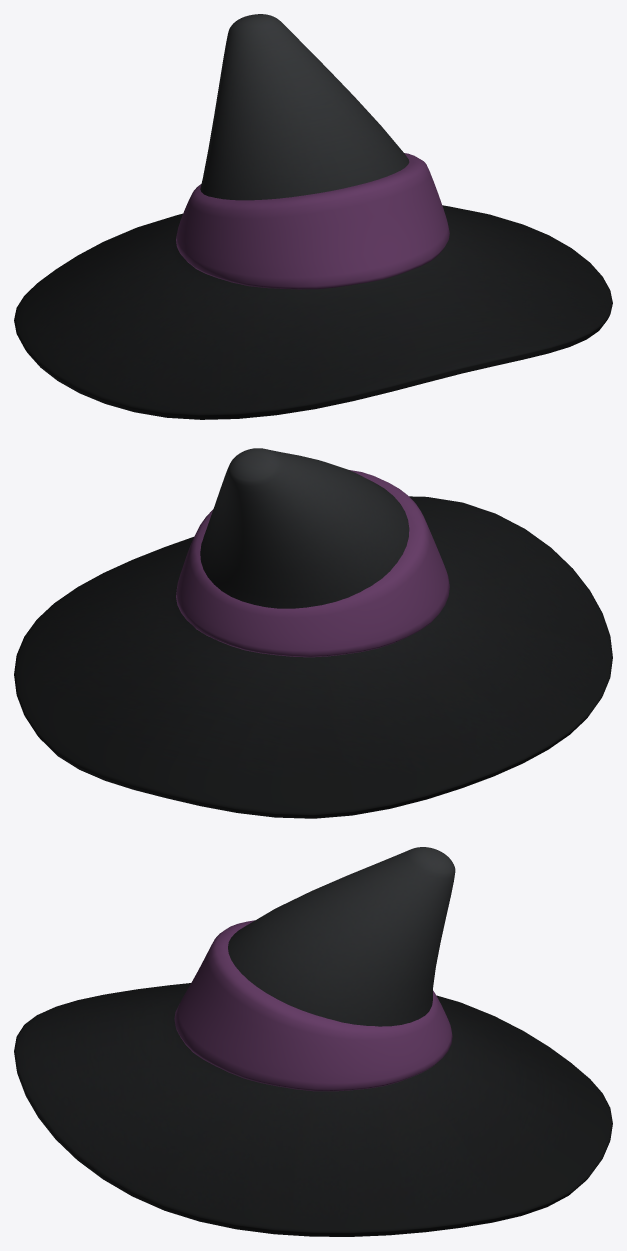
Rendered from wizhat.glb.
3 views of the same model, one above another, from view 1: azimuth 30°, elevation 25°; view 2: azimuth 150°, elevation 25°; view 3: azimuth 270°, elevation 25° (orthographic).
Parts seen in each view (by area): view 1: Cylinder001, Cylinder002; view 2: Cylinder001, Cylinder002; view 3: Cylinder001, Cylinder002.
Part boxes in pixels (left/top/right/bottom): Cylinder001: left=14, top=14, right=612, bottom=419; Cylinder002: left=176, top=153, right=449, bottom=289; Cylinder001: left=14, top=448, right=612, bottom=818; Cylinder002: left=176, top=470, right=449, bottom=657; Cylinder001: left=14, top=847, right=612, bottom=1236; Cylinder002: left=174, top=920, right=452, bottom=1091.
Size of the model in its own units: 2.57 by 1.34 by 2.57.
2 materials, 1 textured.
